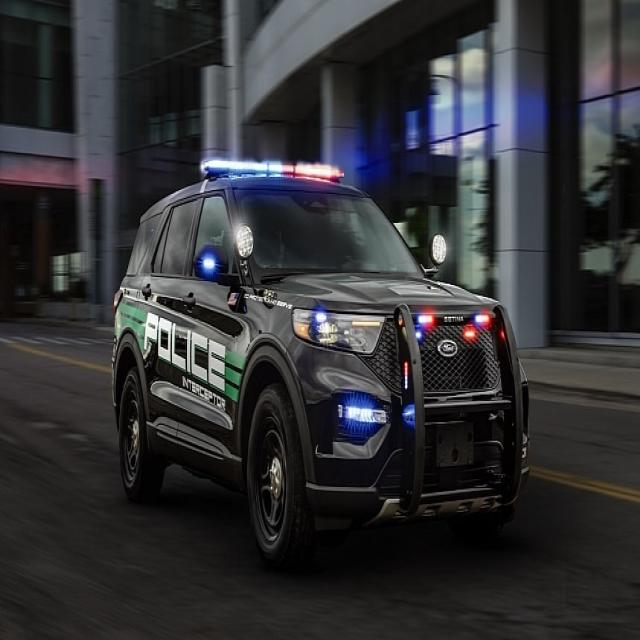cop: (120, 125, 532, 558)
